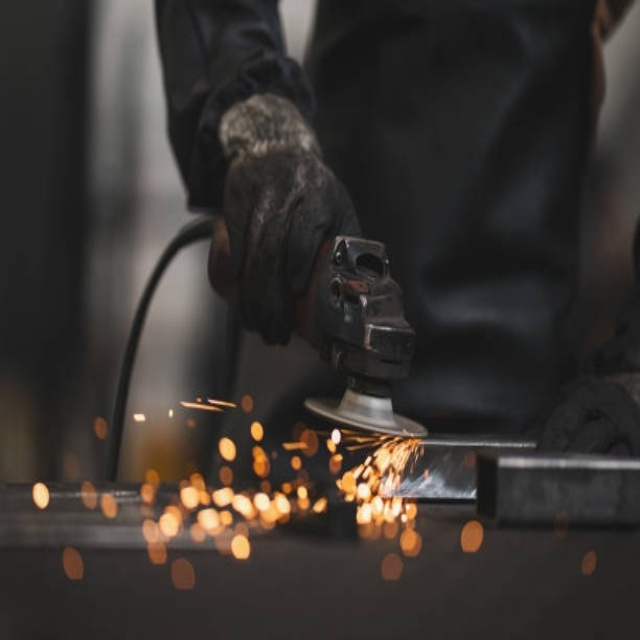Guantes: (214, 97, 364, 348), (531, 372, 640, 460)
